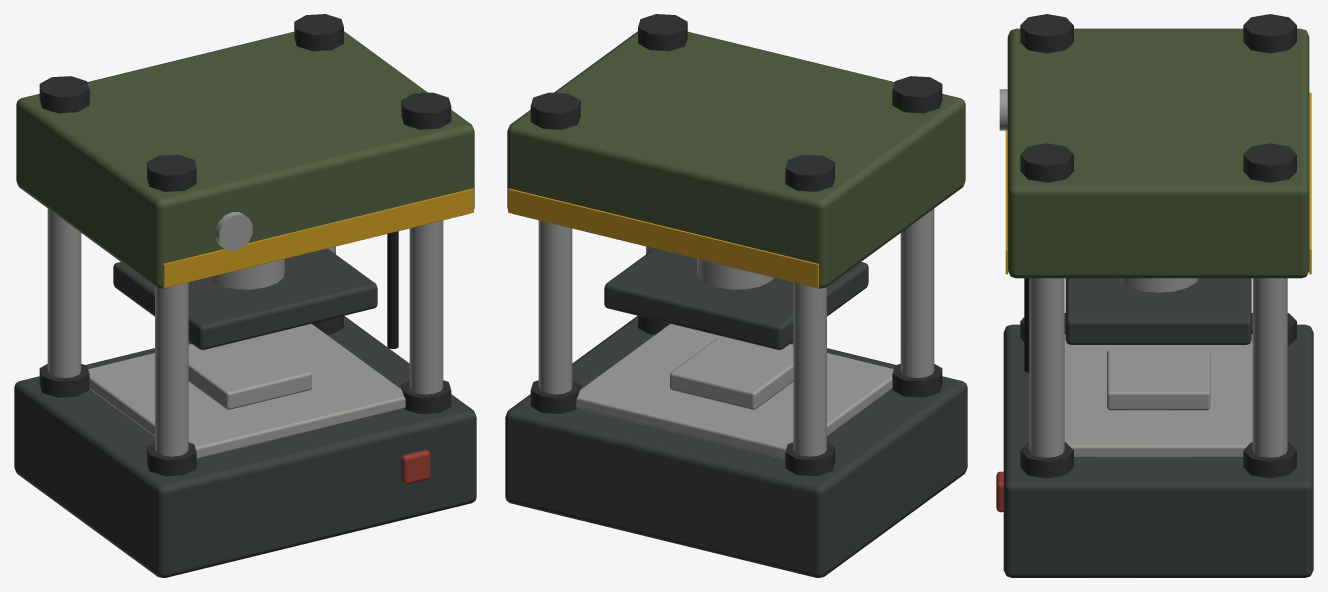
File: press.glb
3 views of the same model, side by side, from view 1: azimuth 30°, elevation 25°; view 2: azimuth 150°, elevation 25°; view 3: azimuth 270°, elevation 25° (orthographic). The views are drawn at different scales.
Visible parts, largest first — view 1: paint-olive, paint-graphite, steel, steel-dark, hazard, rubber, paint-red; view 2: paint-olive, paint-graphite, steel, steel-dark, hazard; view 3: paint-olive, paint-graphite, steel, steel-dark, hazard, rubber.
Boxes of the visible parts, left/top/right/bottom form: paint-olive: left=16, top=31, right=474, bottom=288; paint-graphite: left=14, top=248, right=476, bottom=577; steel: left=47, top=208, right=443, bottom=459; steel-dark: left=39, top=14, right=451, bottom=476; hazard: left=163, top=188, right=473, bottom=287; rubber: left=387, top=231, right=398, bottom=348; paint-red: left=401, top=450, right=430, bottom=484; paint-olive: left=507, top=31, right=965, bottom=288; paint-graphite: left=505, top=248, right=967, bottom=577; steel: left=538, top=208, right=934, bottom=459; steel-dark: left=530, top=14, right=942, bottom=476; hazard: left=508, top=188, right=818, bottom=287; paint-olive: left=1007, top=28, right=1309, bottom=278; paint-graphite: left=1003, top=278, right=1313, bottom=577; steel: left=999, top=89, right=1287, bottom=458; steel-dark: left=1020, top=14, right=1296, bottom=478; hazard: left=1005, top=92, right=1311, bottom=274; rubber: left=1024, top=278, right=1029, bottom=372.
Bounding box in the file's own units: 1.86 × 2.19 × 1.54.
